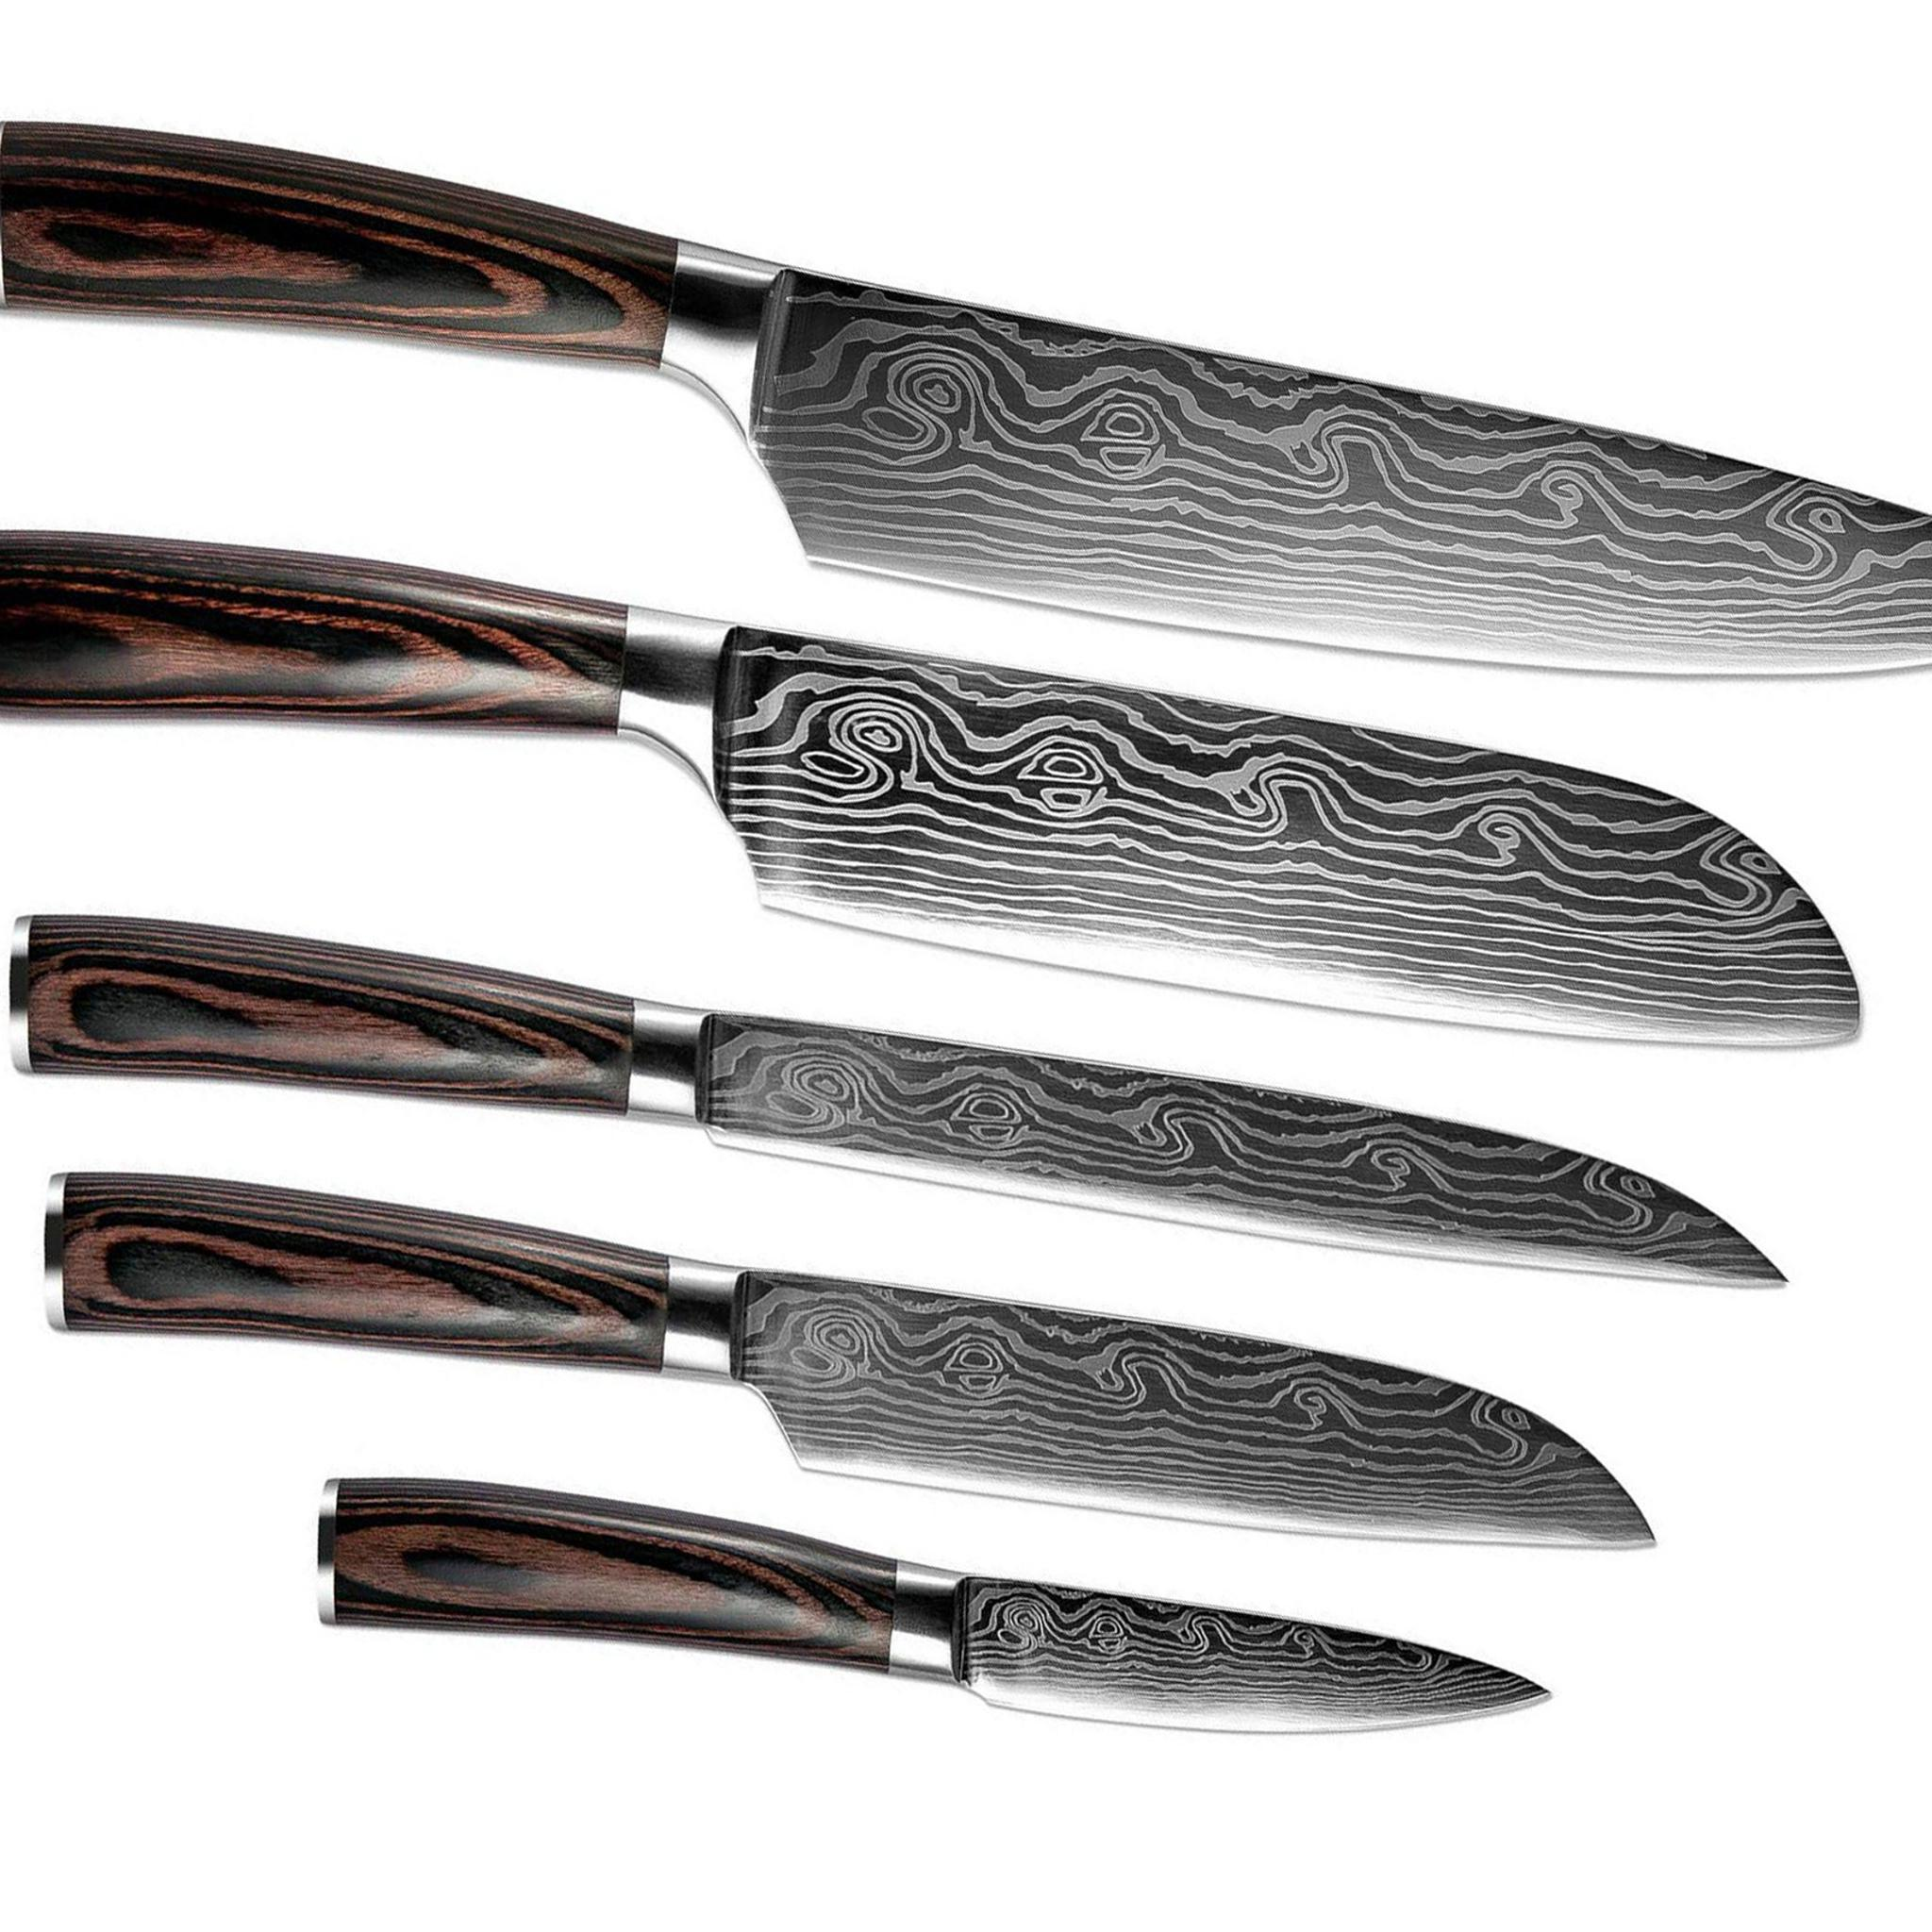knife: (5, 113, 1932, 683), (16, 909, 1789, 1316), (35, 1166, 1667, 1560), (310, 1472, 1557, 1732)
